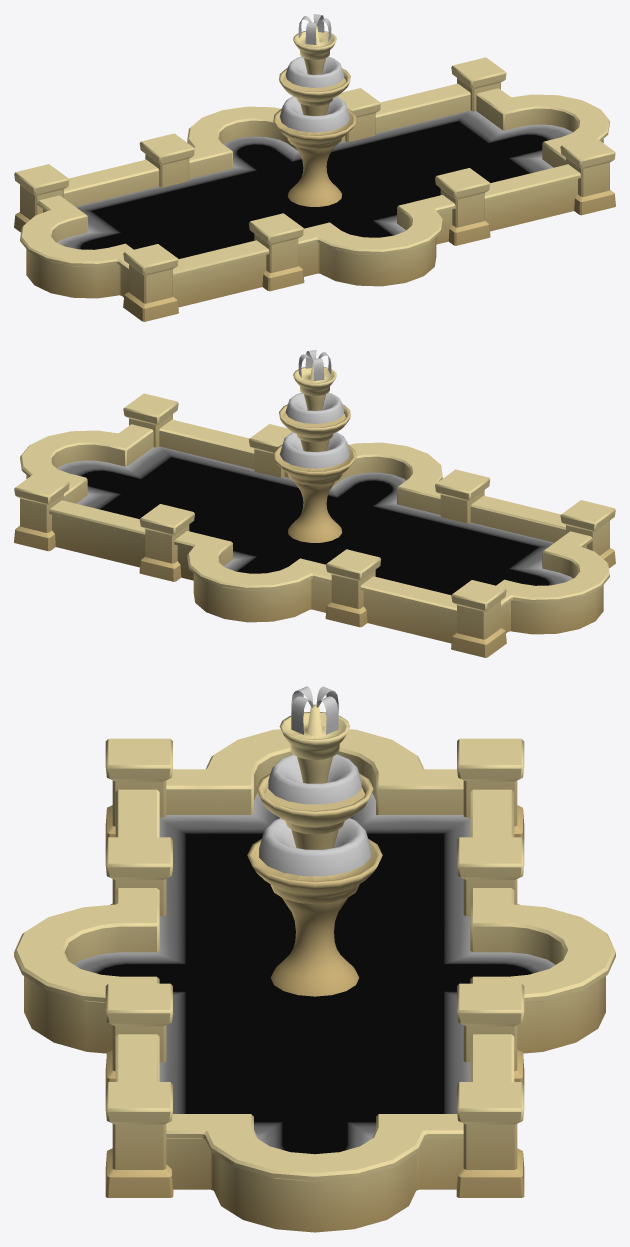
The model's file is Pool.fbx.
3 renders of one model, top to bottom at view 1: azimuth 30°, elevation 25°; view 2: azimuth 150°, elevation 25°; view 3: azimuth 270°, elevation 25°, orthographic. The views are drawn at different scales.
Visible parts, largest first — view 1: Pool, Water, Fountain, Water_01, Water_02, Water_03; view 2: Pool, Water, Fountain, Water_01, Water_02, Water_03; view 3: Pool, Water, Fountain, Water_01, Water_02, Water_03.
Part boxes in pixels (x1=…): Pool: x1=14, y1=57, x2=615, y2=321; Water: x1=57, y1=110, x2=572, y2=258; Fountain: x1=273, y1=26, x2=356, y2=206; Water_01: x1=279, y1=96, x2=350, y2=132; Water_02: x1=285, y1=56, x2=344, y2=87; Water_03: x1=298, y1=14, x2=331, y2=44; Pool: x1=14, y1=393, x2=615, y2=657; Water: x1=57, y1=446, x2=572, y2=594; Fountain: x1=273, y1=362, x2=356, y2=542; Water_01: x1=279, y1=432, x2=350, y2=468; Water_02: x1=285, y1=392, x2=344, y2=423; Water_03: x1=298, y1=350, x2=331, y2=380; Pool: x1=14, y1=729, x2=615, y2=1232; Water: x1=74, y1=792, x2=555, y2=1154; Fountain: x1=247, y1=704, x2=382, y2=996; Water_01: x1=259, y1=818, x2=370, y2=876; Water_02: x1=268, y1=754, x2=361, y2=804; Water_03: x1=291, y1=686, x2=338, y2=734.
Size of the model in its own units: 1412 by 467 by 800.
